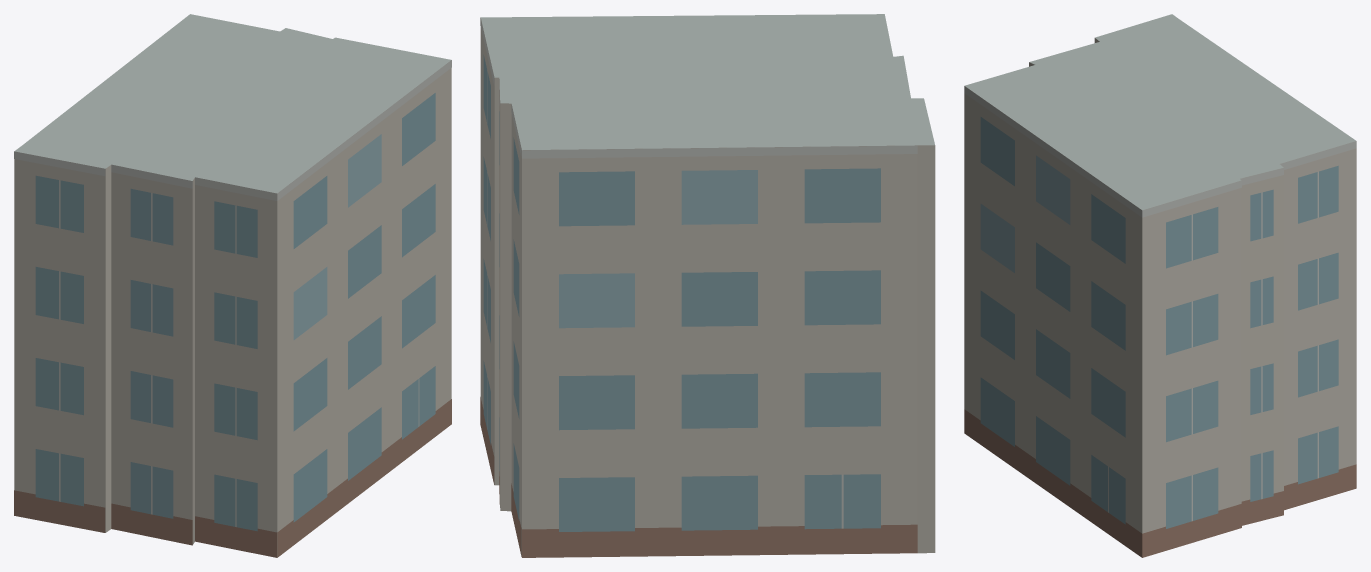
File: survey-upis-32911383.glb
3 views of the same model, side by side, from view 1: azimuth 30°, elevation 25°; view 2: azimuth 150°, elevation 25°; view 3: azimuth 270°, elevation 25° (orthographic). The views are drawn at different scales.
Visible parts, largest first — view 1: survey-upis-32911383.tmp; view 2: survey-upis-32911383.tmp; view 3: survey-upis-32911383.tmp.
Boxes of the visible parts, x1,y1,x2,y2 form: survey-upis-32911383.tmp: [14, 14, 451, 557]; survey-upis-32911383.tmp: [480, 14, 935, 557]; survey-upis-32911383.tmp: [964, 14, 1356, 557].
Size of the model in its own units: 14.06 by 11.6 by 11.88.
